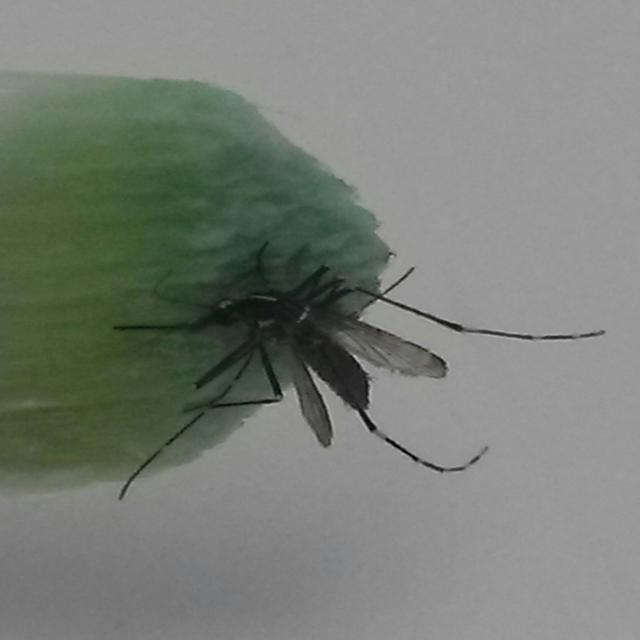albopictus: (103, 198, 586, 508)
